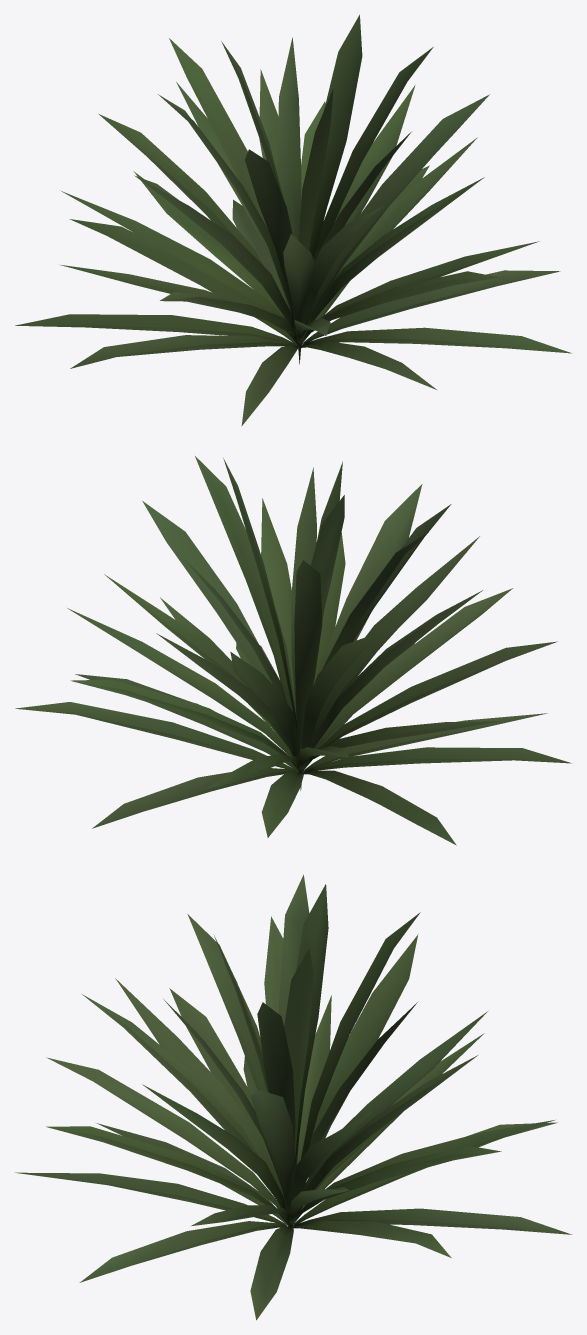
Rendered from plants-leafy-plants-yucca_v4.glb.
The picture shows the model from 3 angles, top to bottom: view 1: azimuth 30°, elevation 25°; view 2: azimuth 150°, elevation 25°; view 3: azimuth 270°, elevation 25°; orthographic projection. The views are drawn at different scales.
Parts seen in each view (by area): view 1: Yucca_v4; view 2: Yucca_v4; view 3: Yucca_v4.
Part boxes in pixels (bbox=[...]): Yucca_v4: bbox=[15, 14, 571, 425]; Yucca_v4: bbox=[15, 456, 572, 845]; Yucca_v4: bbox=[15, 874, 572, 1320].
Bounding box in the file's own units: 1 × 0.6304 × 0.9577.
